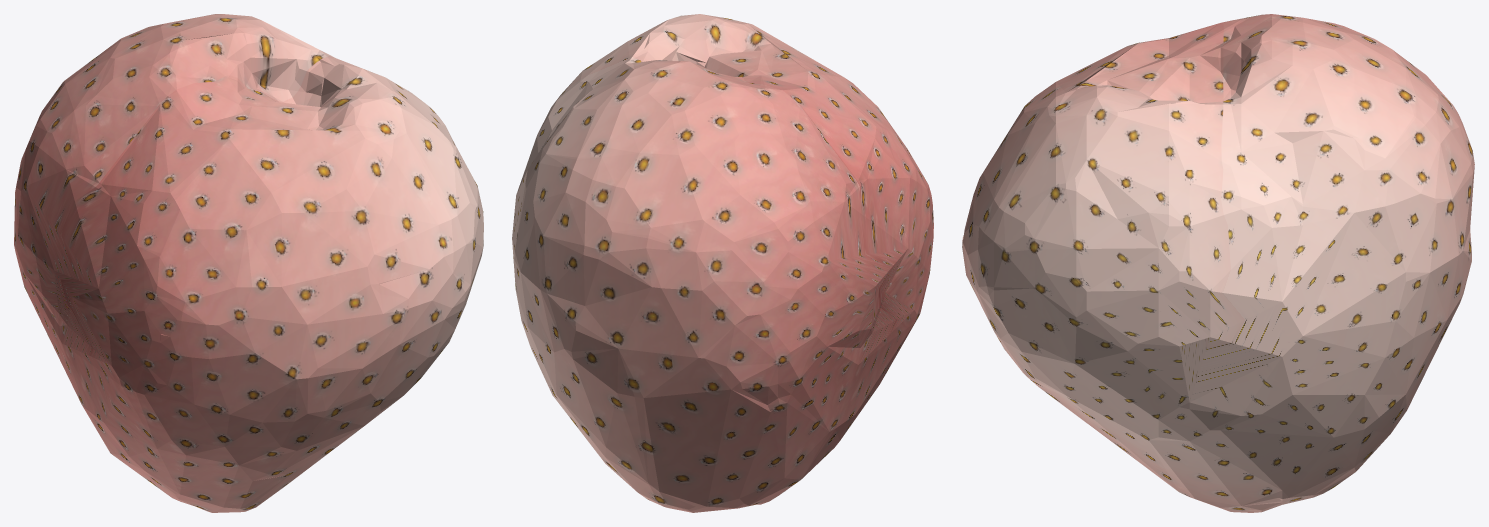
3 renders of one model, left to right at view 1: azimuth 30°, elevation 25°; view 2: azimuth 150°, elevation 25°; view 3: azimuth 270°, elevation 25°, orthographic. The views are drawn at different scales.
Parts seen in each view (by area): view 1: _001_Meshed; view 2: _001_Meshed; view 3: _001_Meshed.
Part boxes in pixels (left/top/right/bottom): _001_Meshed: left=14, top=14, right=483, bottom=512; _001_Meshed: left=512, top=14, right=933, bottom=512; _001_Meshed: left=962, top=14, right=1474, bottom=512.
Size of the model in its own units: 0.0964 by 0.1104 by 0.1128.
Materials: 1 (1 with a texture image).
